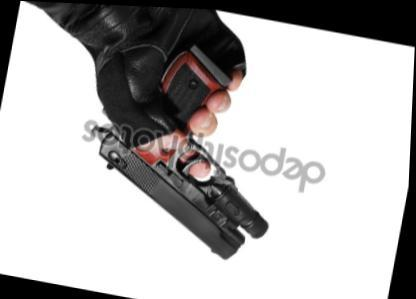pistol: (79, 30, 297, 276)
